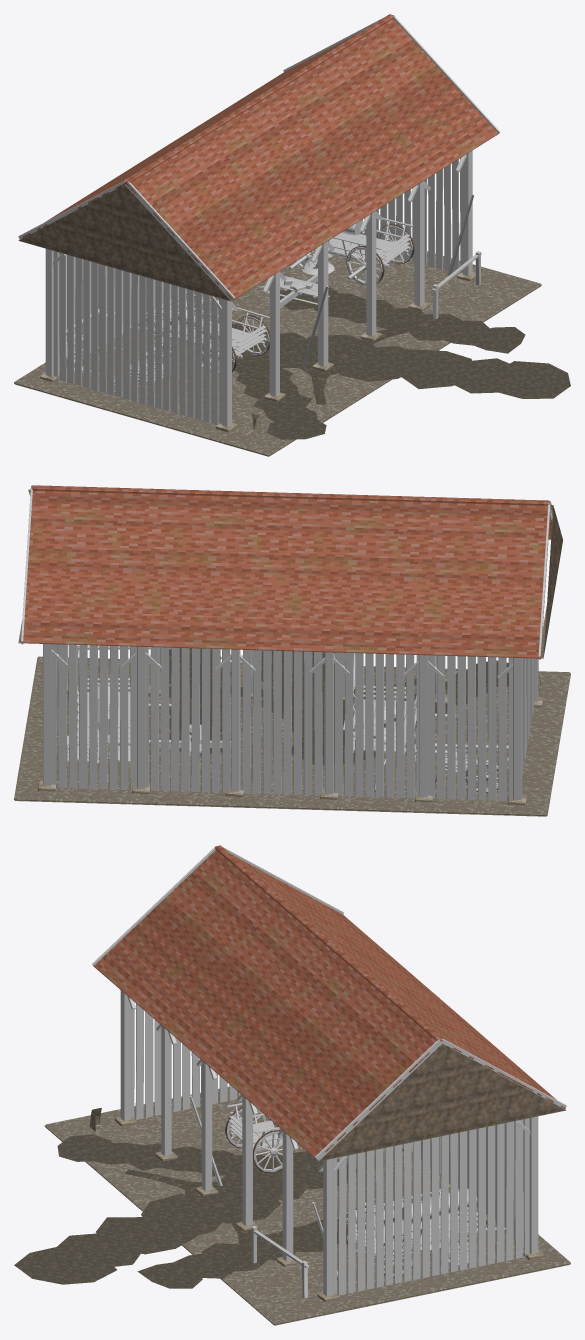
The model's file is waggon_shed.gltf.
3 views of the same model, one above another, from view 1: azimuth 30°, elevation 25°; view 2: azimuth 150°, elevation 25°; view 3: azimuth 270°, elevation 25° (orthographic). The views are drawn at different scales.
Visible parts, largest first — view 1: waggon_shed#n1_n1, waggon_shed#0_0, waggon_shed#n1_0, waggon_shed#0_n1; view 2: waggon_shed#n1_n1, waggon_shed#0_0, waggon_shed#n1_0, waggon_shed#0_n1; view 3: waggon_shed#n1_n1, waggon_shed#0_0, waggon_shed#n1_0, waggon_shed#0_n1.
Boxes of the visible parts, <box> form: waggon_shed#n1_n1: <box>18,14,499,426</box>; waggon_shed#0_0: <box>14,233,570,456</box>; waggon_shed#n1_0: <box>114,285,333,439</box>; waggon_shed#0_n1: <box>259,194,475,308</box>; waggon_shed#n1_n1: <box>18,485,562,805</box>; waggon_shed#0_0: <box>14,645,570,816</box>; waggon_shed#n1_0: <box>334,653,543,772</box>; waggon_shed#0_n1: <box>38,678,231,794</box>; waggon_shed#n1_n1: <box>92,845,566,1296</box>; waggon_shed#0_0: <box>14,1086,570,1325</box>; waggon_shed#n1_0: <box>57,1095,347,1198</box>; waggon_shed#0_n1: <box>312,1188,544,1302</box>.
Bounding box in the file's own units: 17.84 × 7.98 × 16.15.
